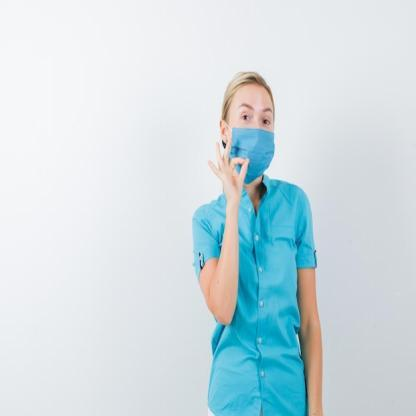ok: (206, 135, 252, 201)
